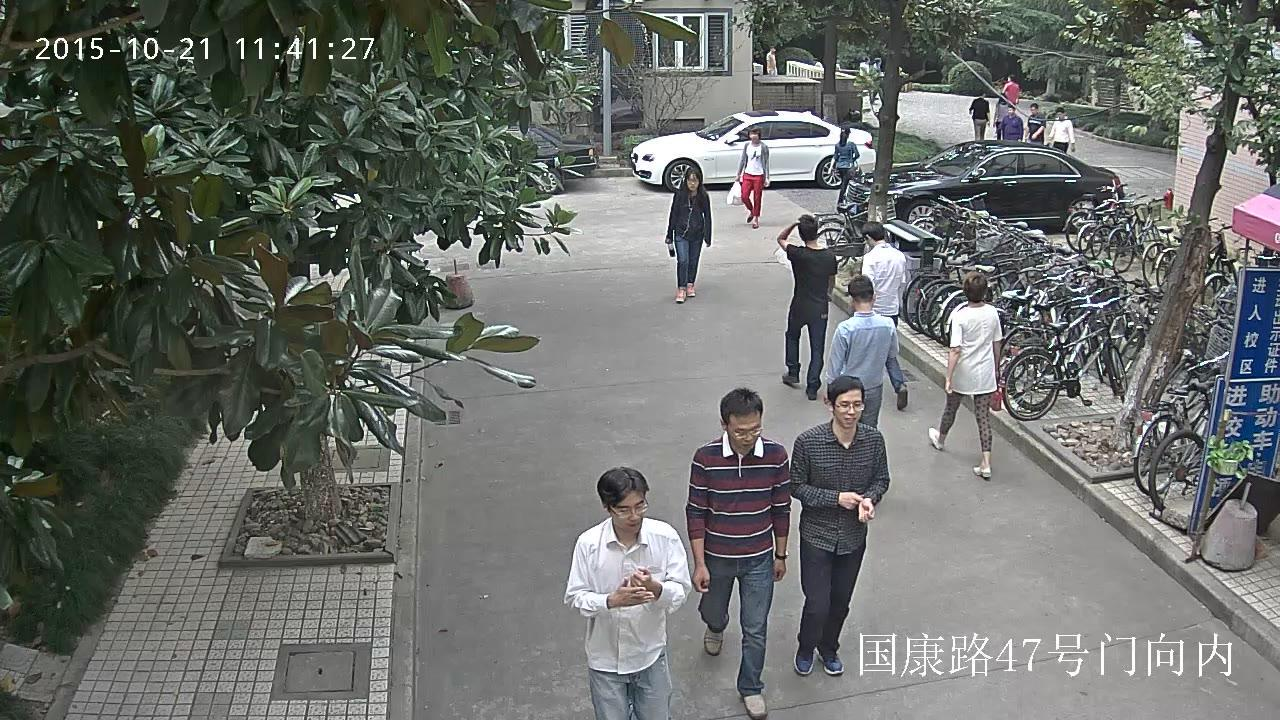person: (686, 388, 792, 720), (564, 466, 695, 720), (790, 374, 889, 677), (928, 273, 1002, 478), (823, 274, 898, 427), (777, 214, 837, 400), (859, 219, 911, 411), (665, 164, 712, 303), (725, 128, 769, 227), (831, 125, 859, 205), (1047, 107, 1075, 154), (968, 88, 990, 141), (1024, 103, 1046, 146), (992, 92, 1011, 139), (1001, 104, 1023, 141), (1001, 74, 1018, 111), (765, 45, 777, 75)
